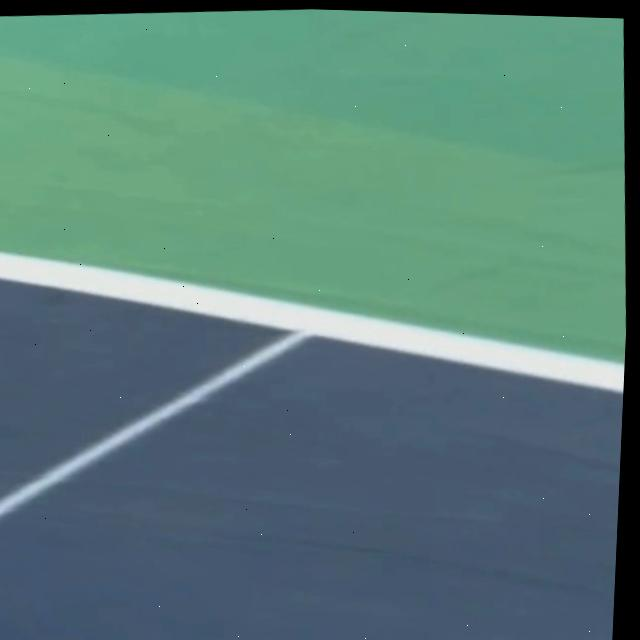right: (0, 254, 625, 393)
